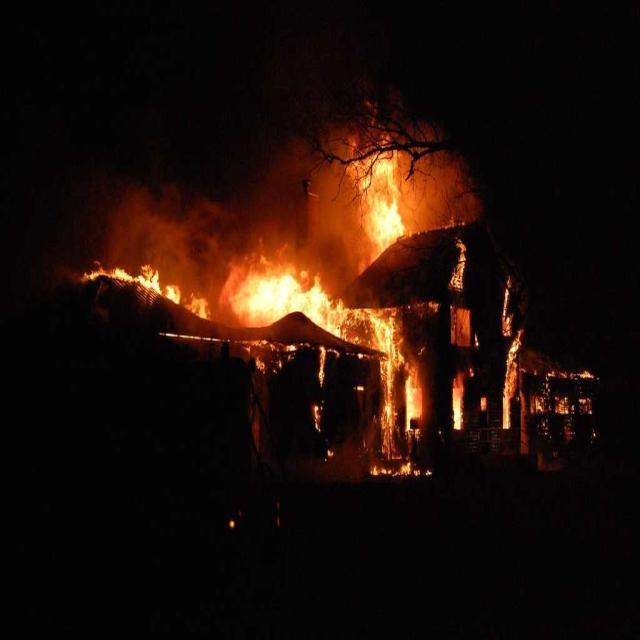Fire: (245, 280, 300, 312), (371, 172, 396, 240)
